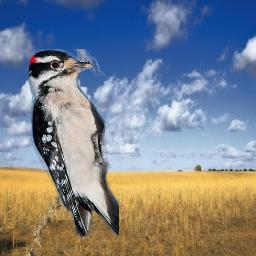Woodpecker: (27, 49, 119, 239)
